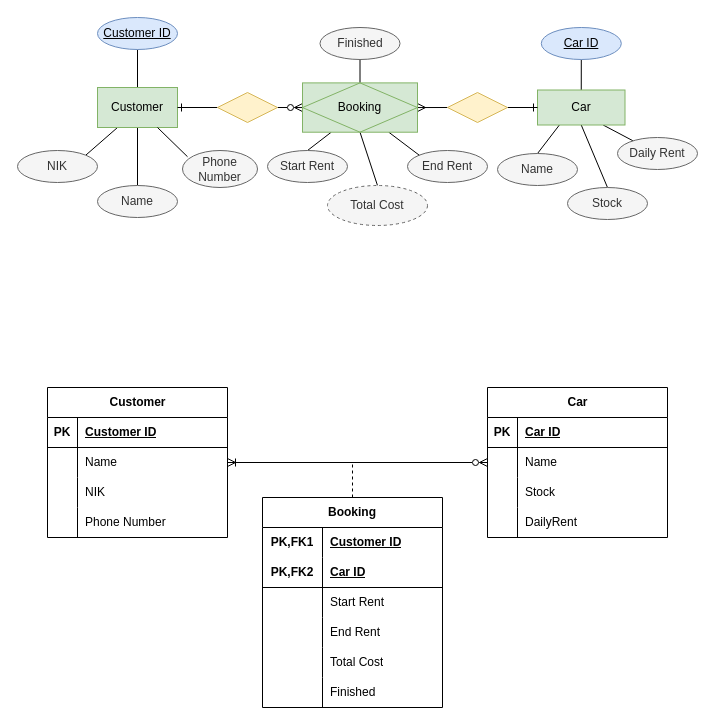
Image size: 715x725. Some labels were removed from this diagram. The shapes that lost their labels are listed below. From the top down, each one's centre as x and y in pixels, then its label:
point 247,107: make
point 477,107: rent
